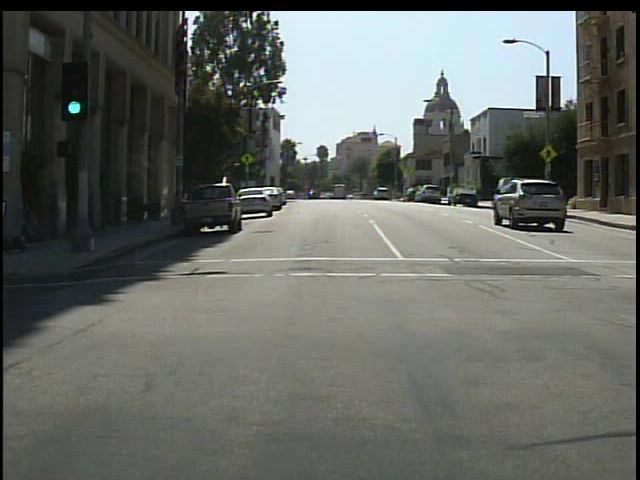person: (3, 161, 12, 268)
